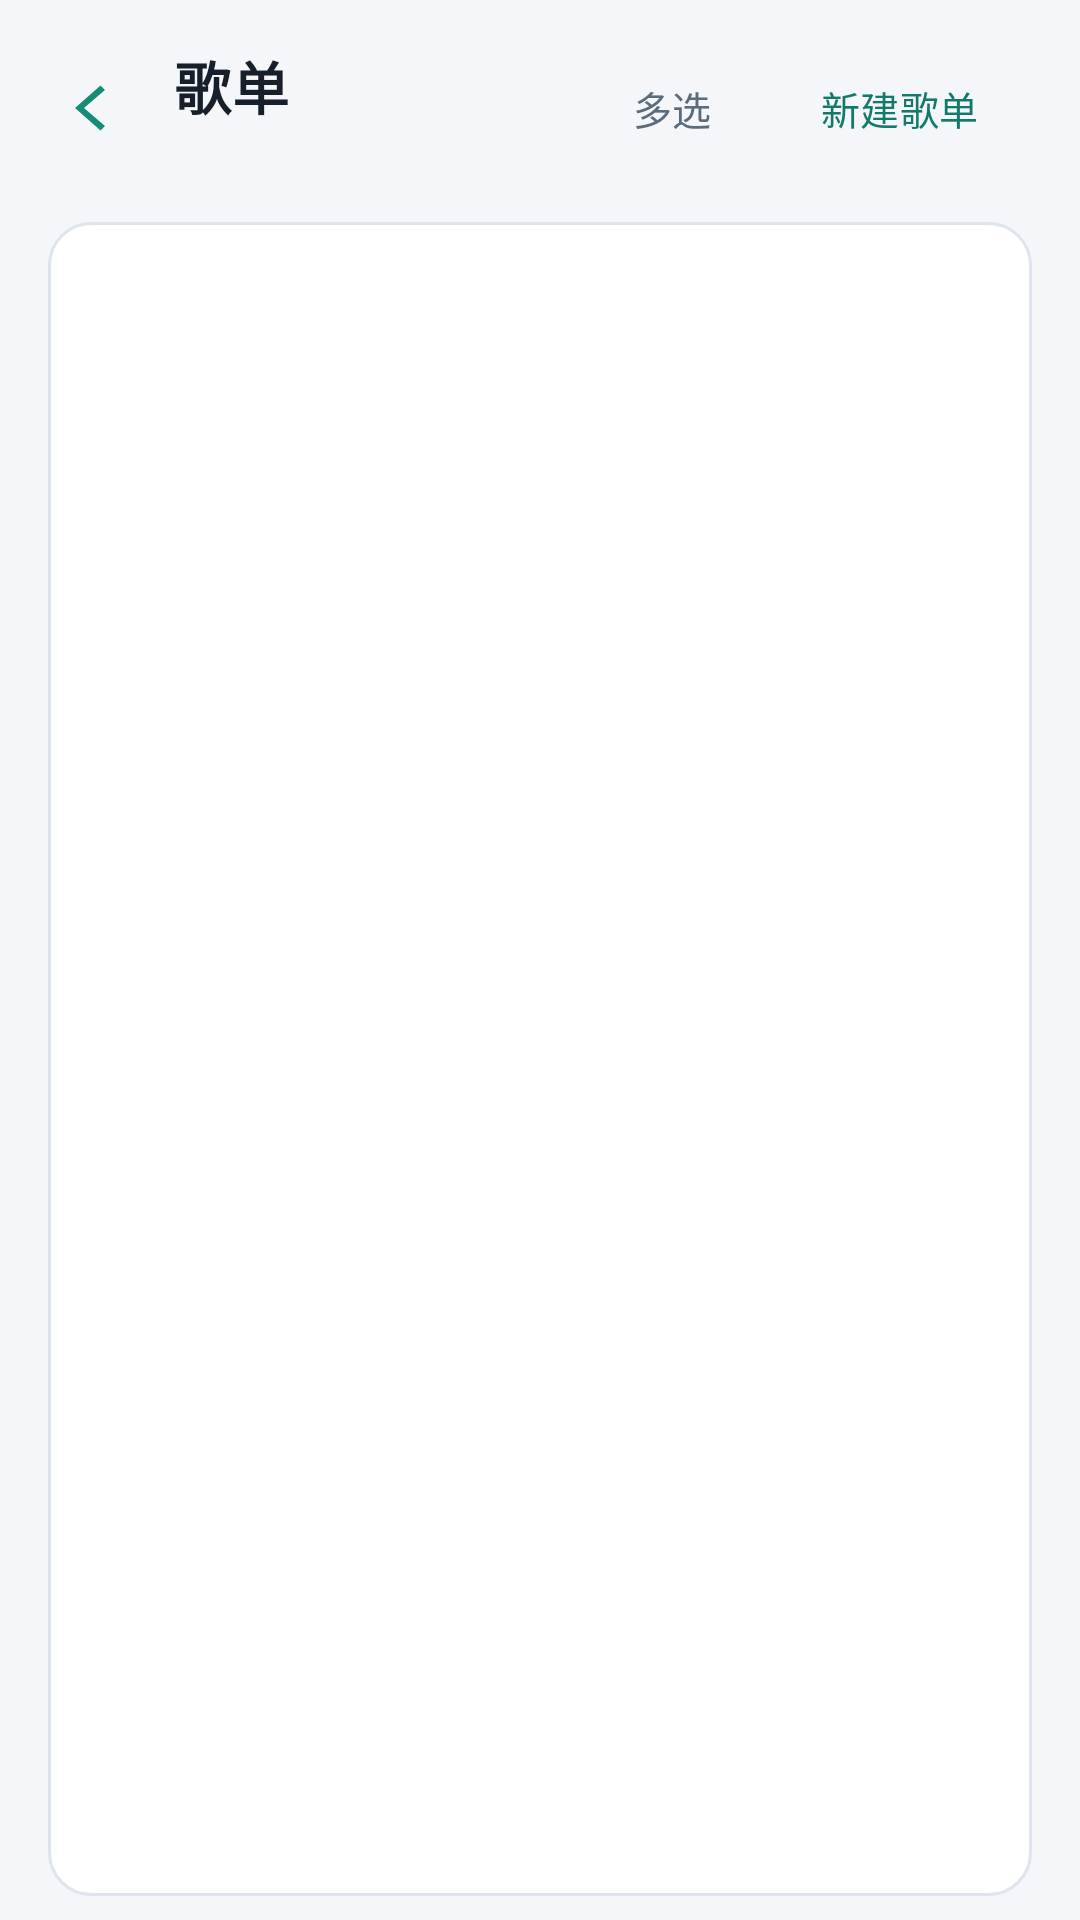

Named icons in this screenshot (1080*1920) and their centers, point (x, y):
返回: point (90, 108)
